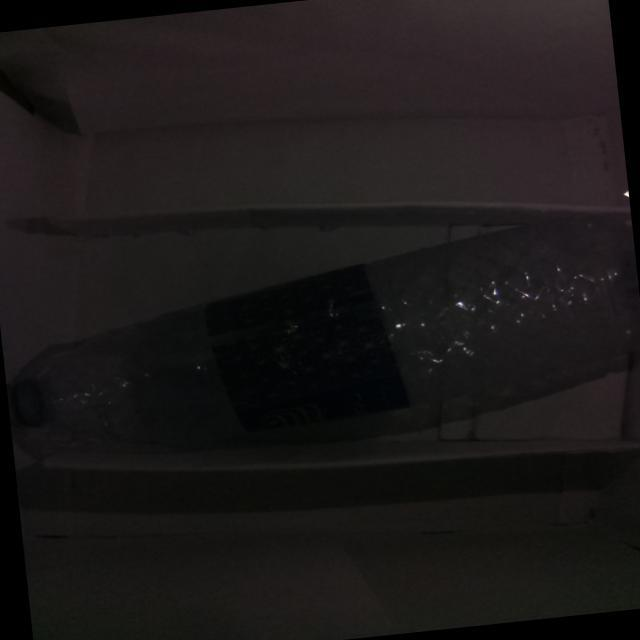good: (0, 189, 640, 494)
